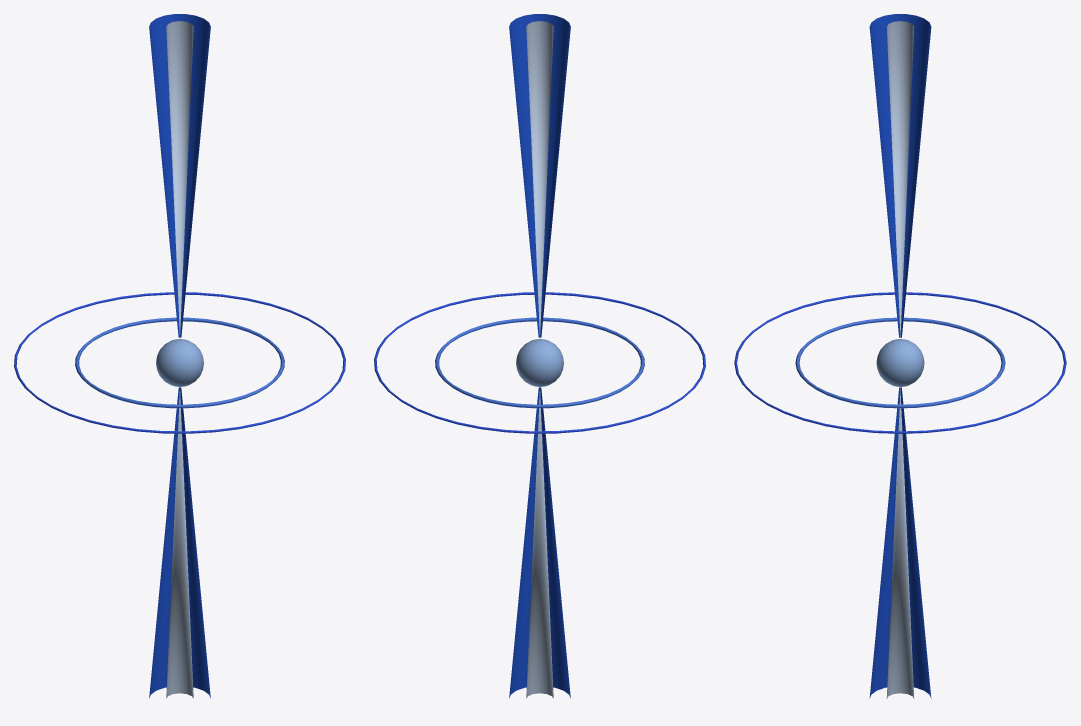
The model's file is neutron_star.glb.
3 views of the same model, side by side, from view 1: azimuth 30°, elevation 25°; view 2: azimuth 150°, elevation 25°; view 3: azimuth 270°, elevation 25° (orthographic).
Parts seen in each view (by area): view 1: neutron_star; view 2: neutron_star; view 3: neutron_star.
Part boxes in pixels (left/top/right/bottom): neutron_star: left=14, top=14, right=345, bottom=698; neutron_star: left=374, top=14, right=705, bottom=698; neutron_star: left=734, top=14, right=1066, bottom=698.
Size of the model in its own units: 0.8932 by 1.99 by 0.8932.
